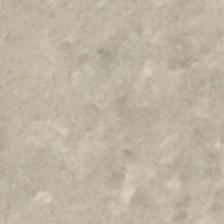Non_Crack: (15, 22, 190, 224)
